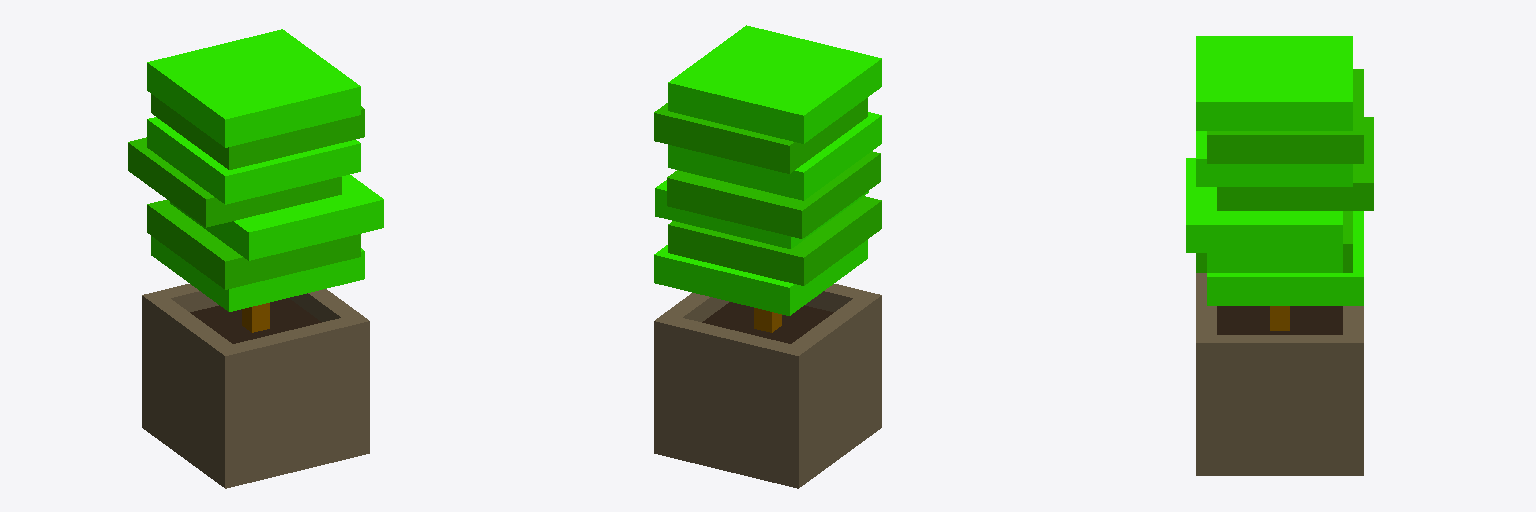
3 views of the same model, side by side, from view 1: azimuth 30°, elevation 25°; view 2: azimuth 150°, elevation 25°; view 3: azimuth 270°, elevation 25° (orthographic).
Parts seen in each view (by area): view 1: object 1; view 2: object 1; view 3: object 1.
Boxes of the visible parts, <box> form: object 1: <box>128,29,383,488</box>; object 1: <box>654,25,881,488</box>; object 1: <box>1186,36,1373,475</box>.
Size of the model in its own units: 1.8 by 3.9 by 1.8.
1 materials, 1 textured.